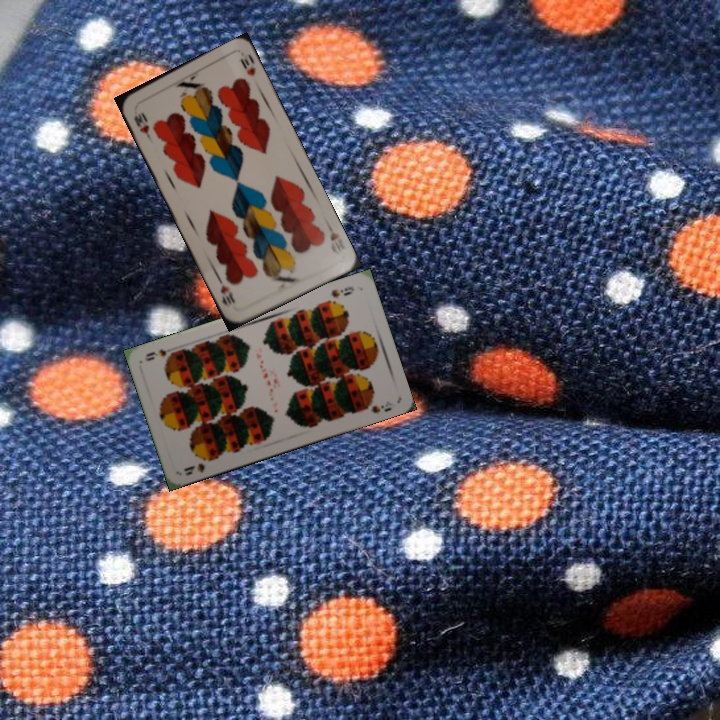H10: (130, 107, 154, 142), (322, 219, 342, 257)
S9: (179, 453, 217, 478), (327, 282, 356, 300)
